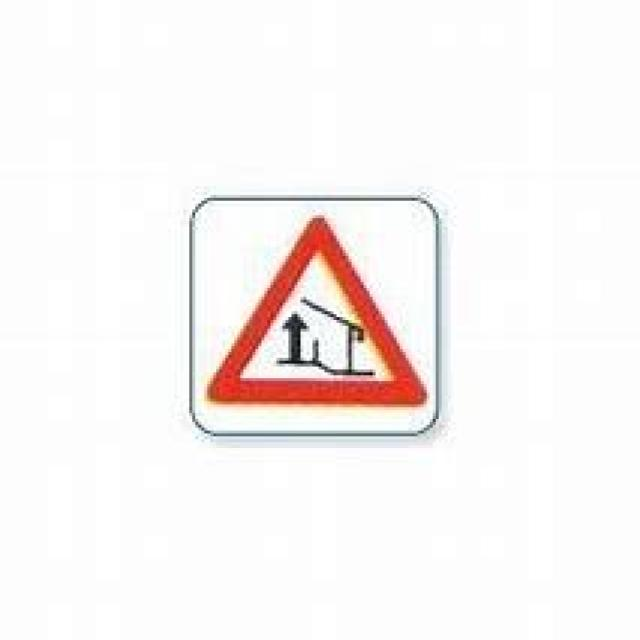BARRIER_AHEAD: (182, 203, 453, 427)
